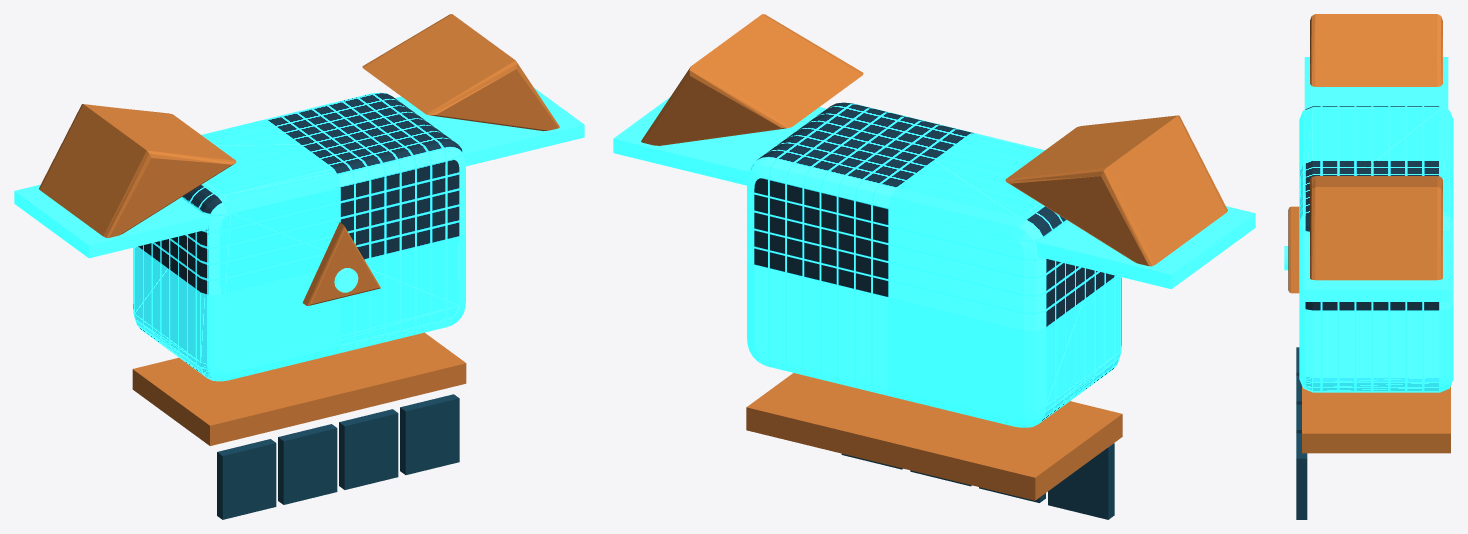
File: eqf_eqsu3.glb
The picture shows the model from 3 angles, left to right: view 1: azimuth 30°, elevation 25°; view 2: azimuth 150°, elevation 25°; view 3: azimuth 270°, elevation 25°; orthographic projection. The views are drawn at different scales.
Bounding box in the file's own units: 4.06 × 2.96 × 1.25.
5 materials, 1 textured.
